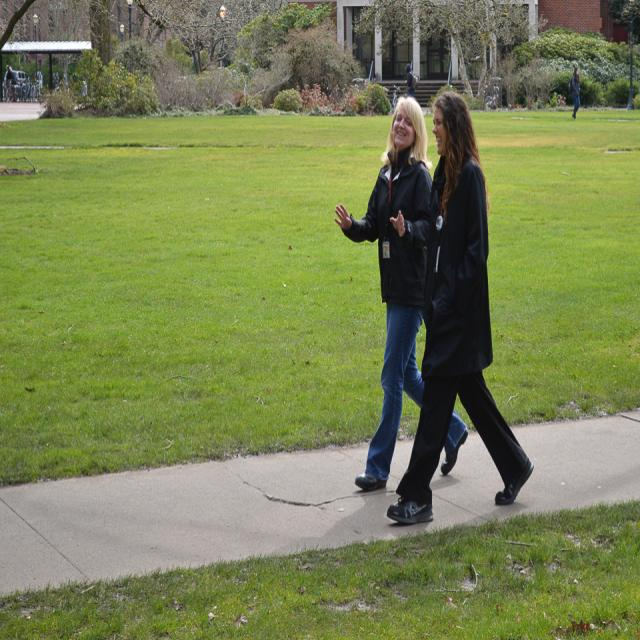Person: (386, 95, 533, 523), (336, 97, 467, 487), (570, 66, 582, 116)
